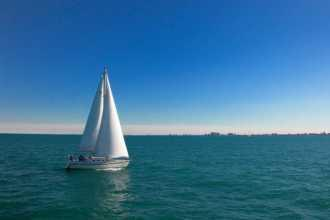fanchuan: (64, 65, 142, 172)
